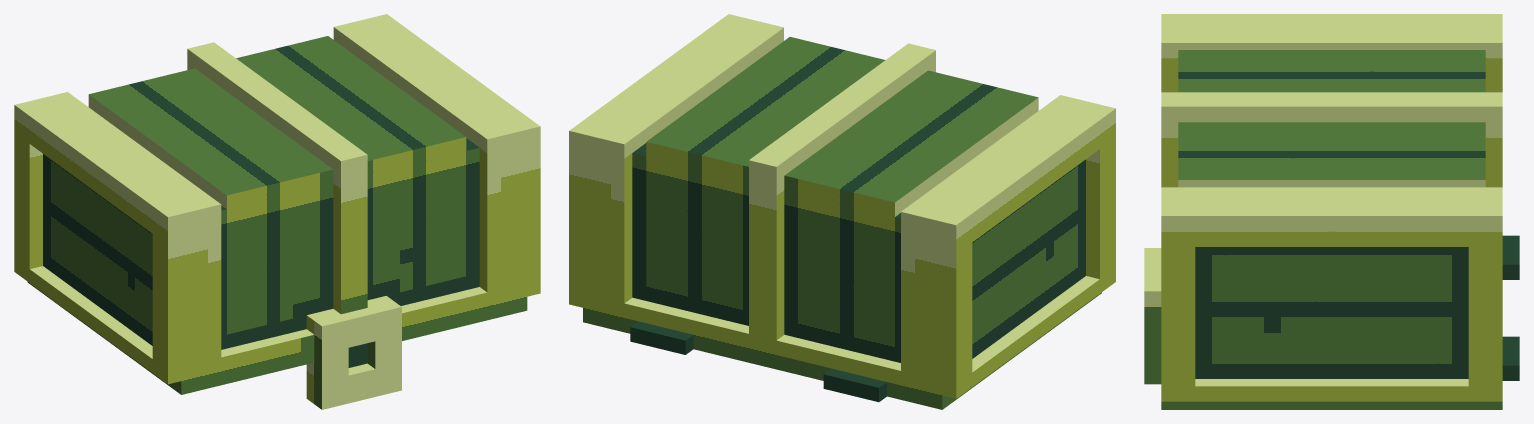
The model's file is sewer_treasure_topao.fezao.glb.
The picture shows the model from 3 angles, left to right: view 1: azimuth 30°, elevation 25°; view 2: azimuth 150°, elevation 25°; view 3: azimuth 270°, elevation 25°; orthographic projection. The views are drawn at different scales.
Parts seen in each view (by area): view 1: SEWER_TREASURE_TOPAO; view 2: SEWER_TREASURE_TOPAO; view 3: SEWER_TREASURE_TOPAO.
Part boxes in pixels (x1,y1,x2,y2): SEWER_TREASURE_TOPAO: (14,14,540,409); SEWER_TREASURE_TOPAO: (569,14,1115,409); SEWER_TREASURE_TOPAO: (1144,14,1519,409).
Bounding box in the file's own units: 1.75 × 1.06 × 1.38.
Materials: 1 (1 with a texture image).
